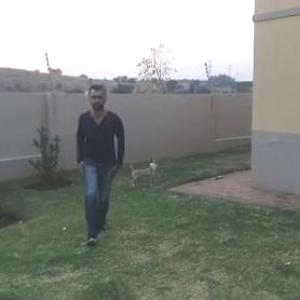follow: (76, 77, 128, 236)
